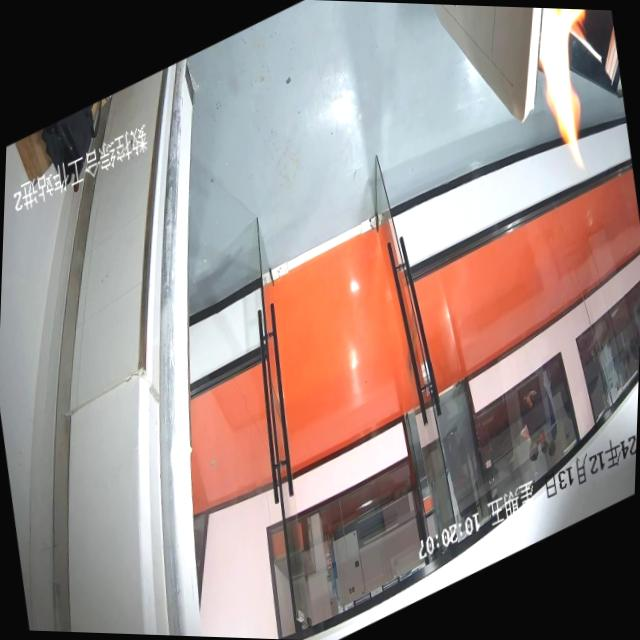fire: (500, 7, 627, 210)
